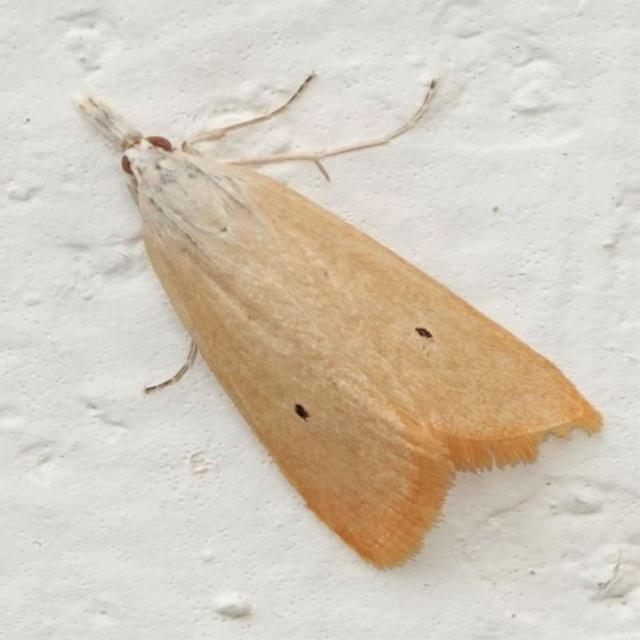rice stem borer -penggerek batang padi-: (70, 72, 606, 572)
